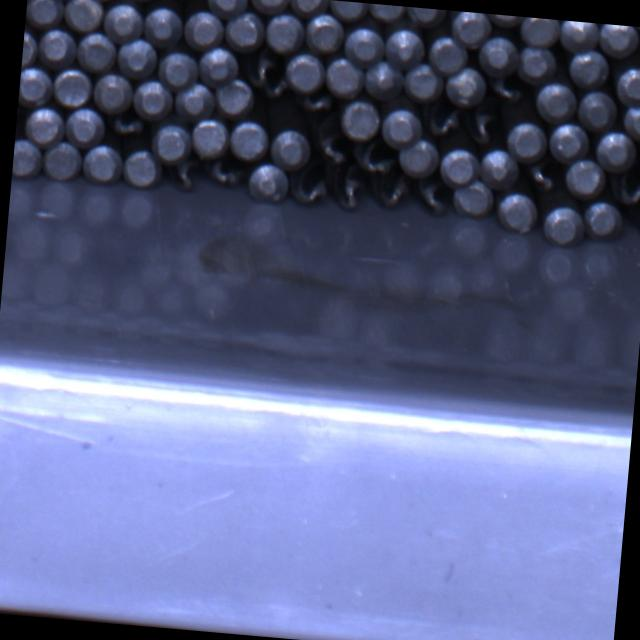tool: (338, 96, 382, 140), (378, 104, 422, 148), (114, 36, 158, 80), (92, 70, 135, 114), (197, 44, 240, 88), (595, 127, 638, 171), (504, 117, 547, 161), (563, 155, 606, 199), (534, 79, 578, 122), (189, 114, 231, 159), (384, 24, 426, 69), (453, 180, 498, 222), (157, 47, 200, 90), (103, 0, 146, 43), (75, 31, 118, 74), (342, 24, 385, 67), (82, 142, 125, 185), (142, 4, 184, 48), (395, 136, 439, 178), (214, 76, 256, 120), (479, 146, 521, 190), (248, 160, 290, 203), (304, 12, 346, 55), (228, 117, 270, 160), (23, 104, 66, 146), (322, 55, 364, 98), (361, 58, 403, 101), (283, 51, 325, 94), (132, 77, 174, 120), (549, 122, 592, 164), (182, 8, 224, 51), (497, 190, 540, 232), (478, 34, 520, 77), (271, 126, 312, 170), (65, 104, 106, 148), (174, 83, 218, 124), (52, 66, 94, 108), (223, 10, 265, 52), (42, 140, 84, 182), (37, 26, 79, 68), (403, 62, 445, 104), (151, 120, 193, 162), (542, 202, 584, 244), (576, 88, 618, 130), (264, 11, 305, 54), (427, 33, 470, 74), (439, 146, 481, 187), (445, 65, 487, 106), (583, 198, 624, 240), (568, 48, 611, 88), (122, 148, 162, 188), (518, 45, 558, 83), (18, 65, 54, 107), (450, 10, 492, 46), (599, 23, 640, 57), (63, 0, 105, 33), (520, 16, 562, 48), (559, 20, 601, 52), (12, 137, 44, 178), (25, 0, 65, 30), (616, 66, 640, 107), (404, 6, 446, 28), (328, 0, 368, 20), (204, 0, 248, 18), (621, 99, 640, 140), (364, 3, 404, 21), (21, 27, 38, 68), (288, 0, 329, 16), (249, 0, 291, 13)
tool_b: (243, 52, 290, 98), (327, 168, 368, 214), (352, 140, 398, 178), (412, 178, 454, 218), (310, 128, 351, 168), (205, 155, 249, 192), (463, 106, 502, 147), (485, 72, 527, 110), (523, 159, 563, 196), (288, 170, 328, 207), (374, 174, 412, 212), (424, 104, 462, 140), (166, 156, 202, 194), (292, 85, 334, 117), (106, 109, 146, 142), (611, 171, 640, 209), (161, 0, 205, 4)
